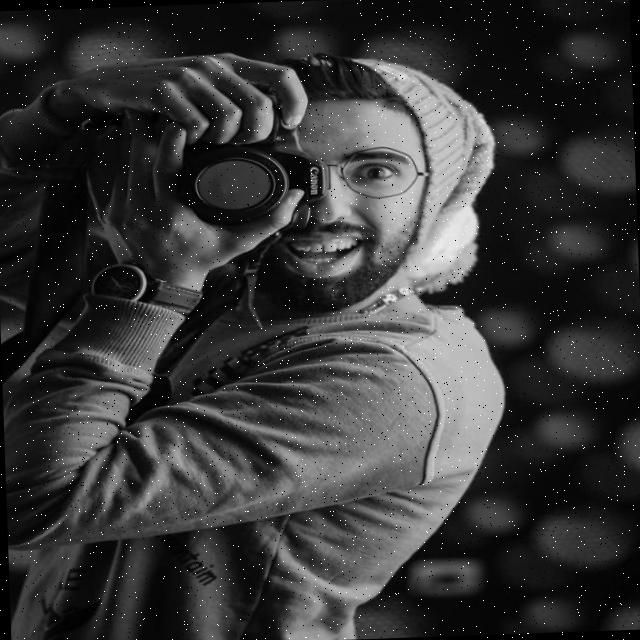Happiness: (249, 90, 436, 306)
